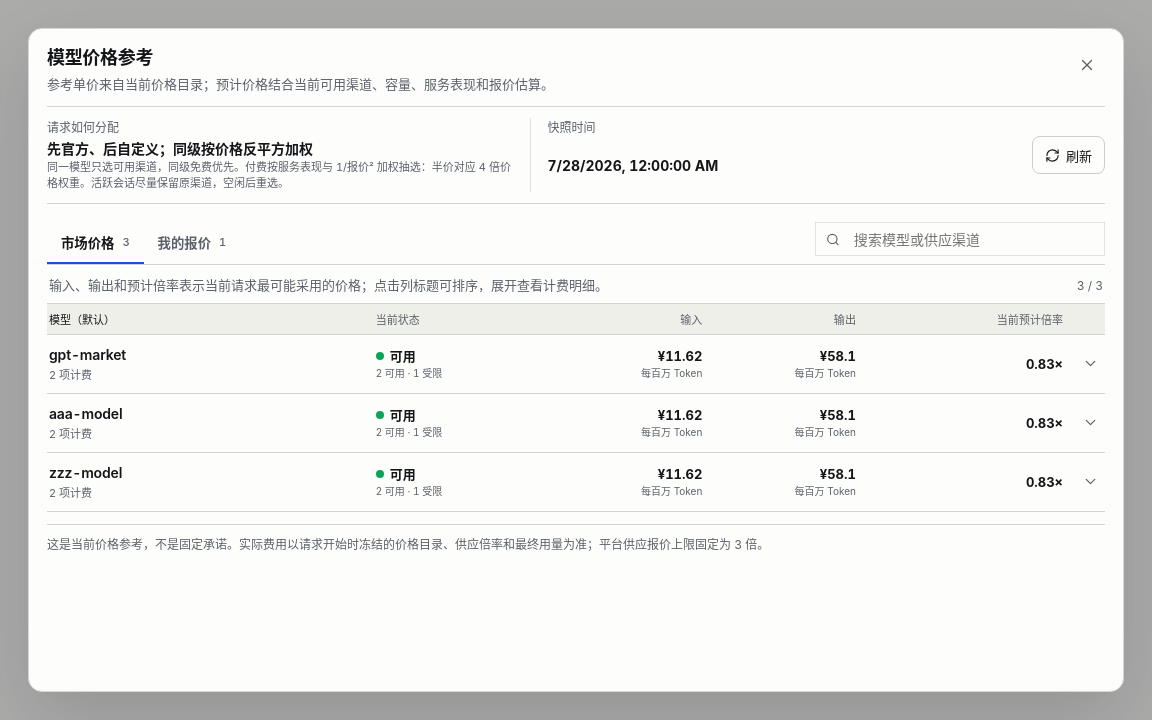
Test: MarketPricesModal › cycles default and alphabetical model order while reusing the default page cache
Click the button "模型（默认）": (82, 320) [49, 304, 364, 334]
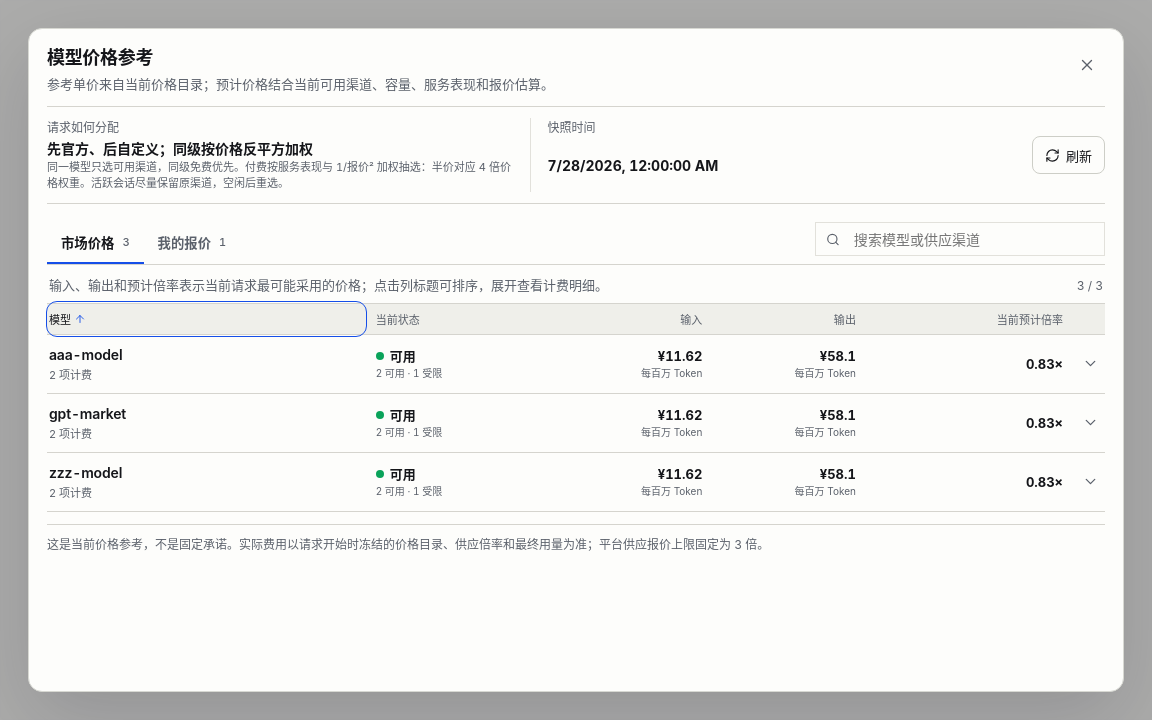
Click the button "模型": (60, 320) [49, 304, 364, 334]
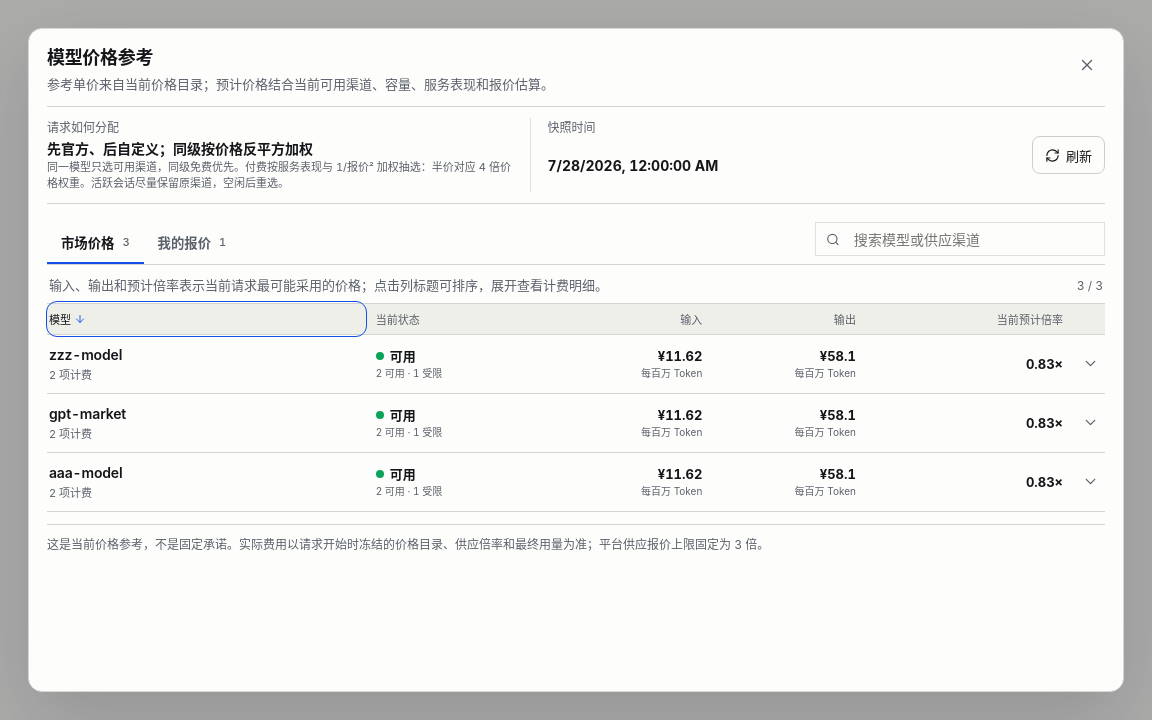
Click the button "模型": (60, 320) [49, 304, 364, 334]
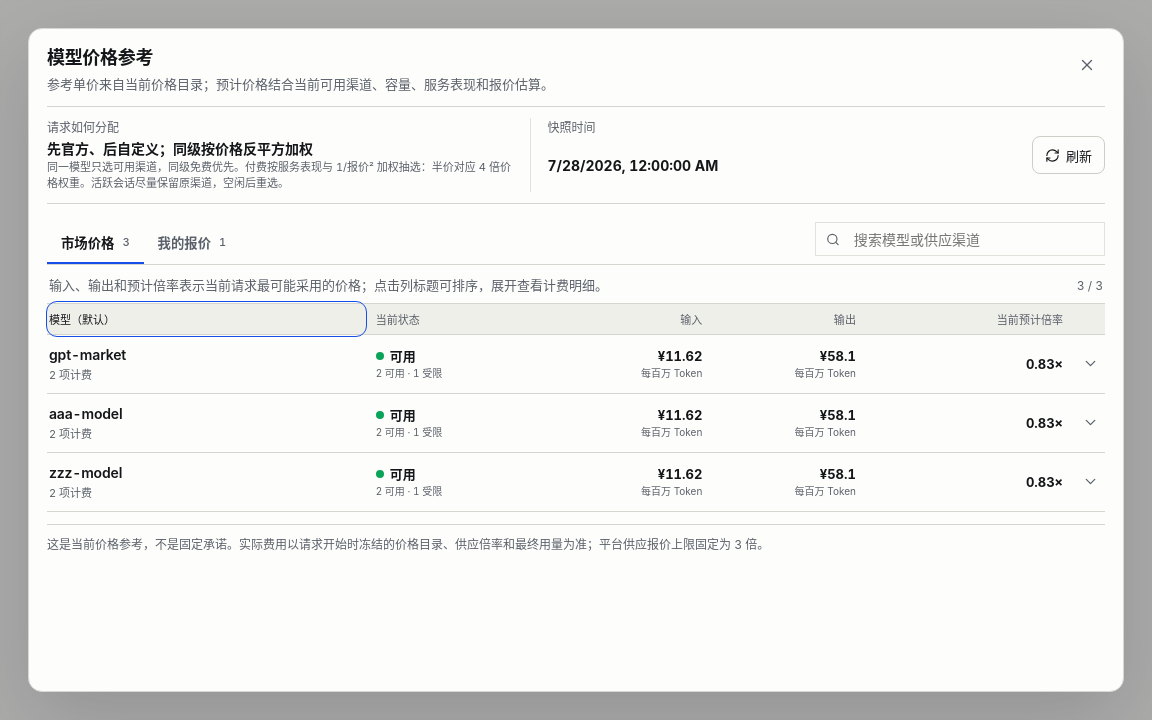
Expected: the button "刷新" is enabled, [1032, 136, 1105, 174]
Result: the button "模型（默认）" is shown at [49, 304, 364, 334]
